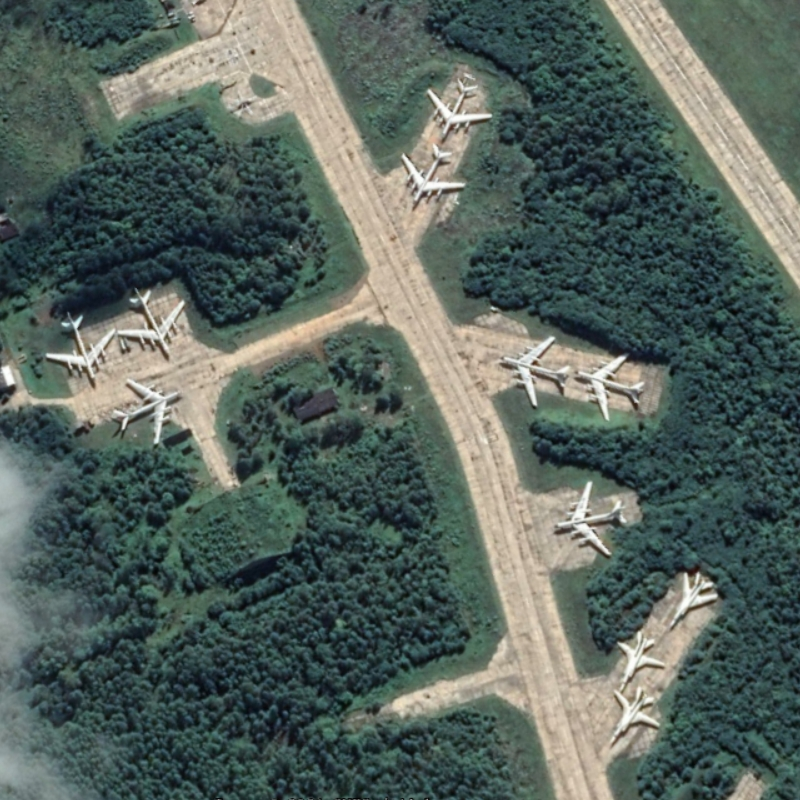A12: (611, 627, 667, 694), (608, 683, 663, 749), (665, 569, 722, 632)
A17: (550, 478, 631, 560), (45, 307, 117, 390), (495, 333, 572, 409), (114, 284, 189, 362), (573, 350, 648, 424), (110, 375, 184, 448), (423, 71, 496, 142), (397, 142, 467, 209)
